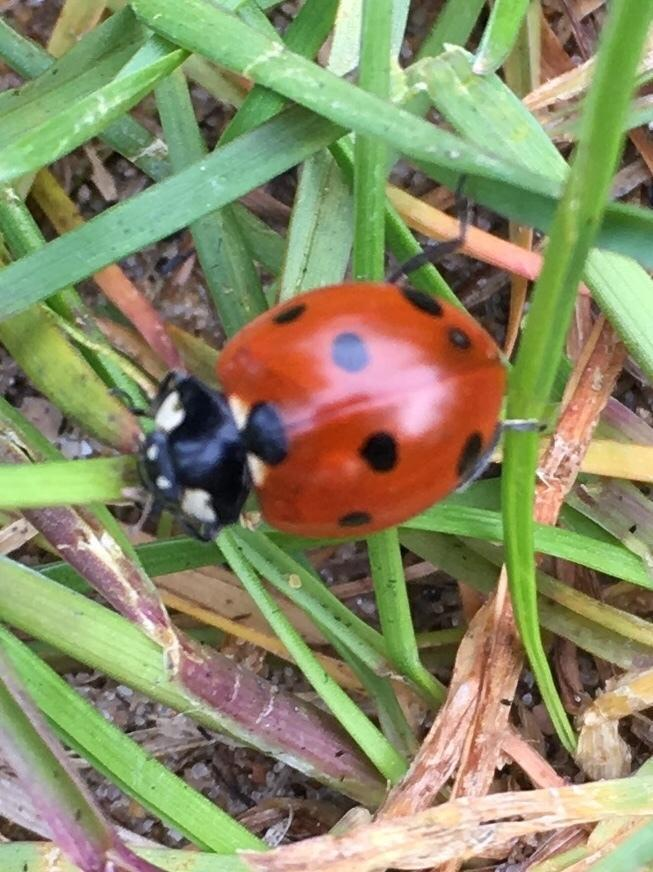ladybug: (116, 169, 551, 549)
